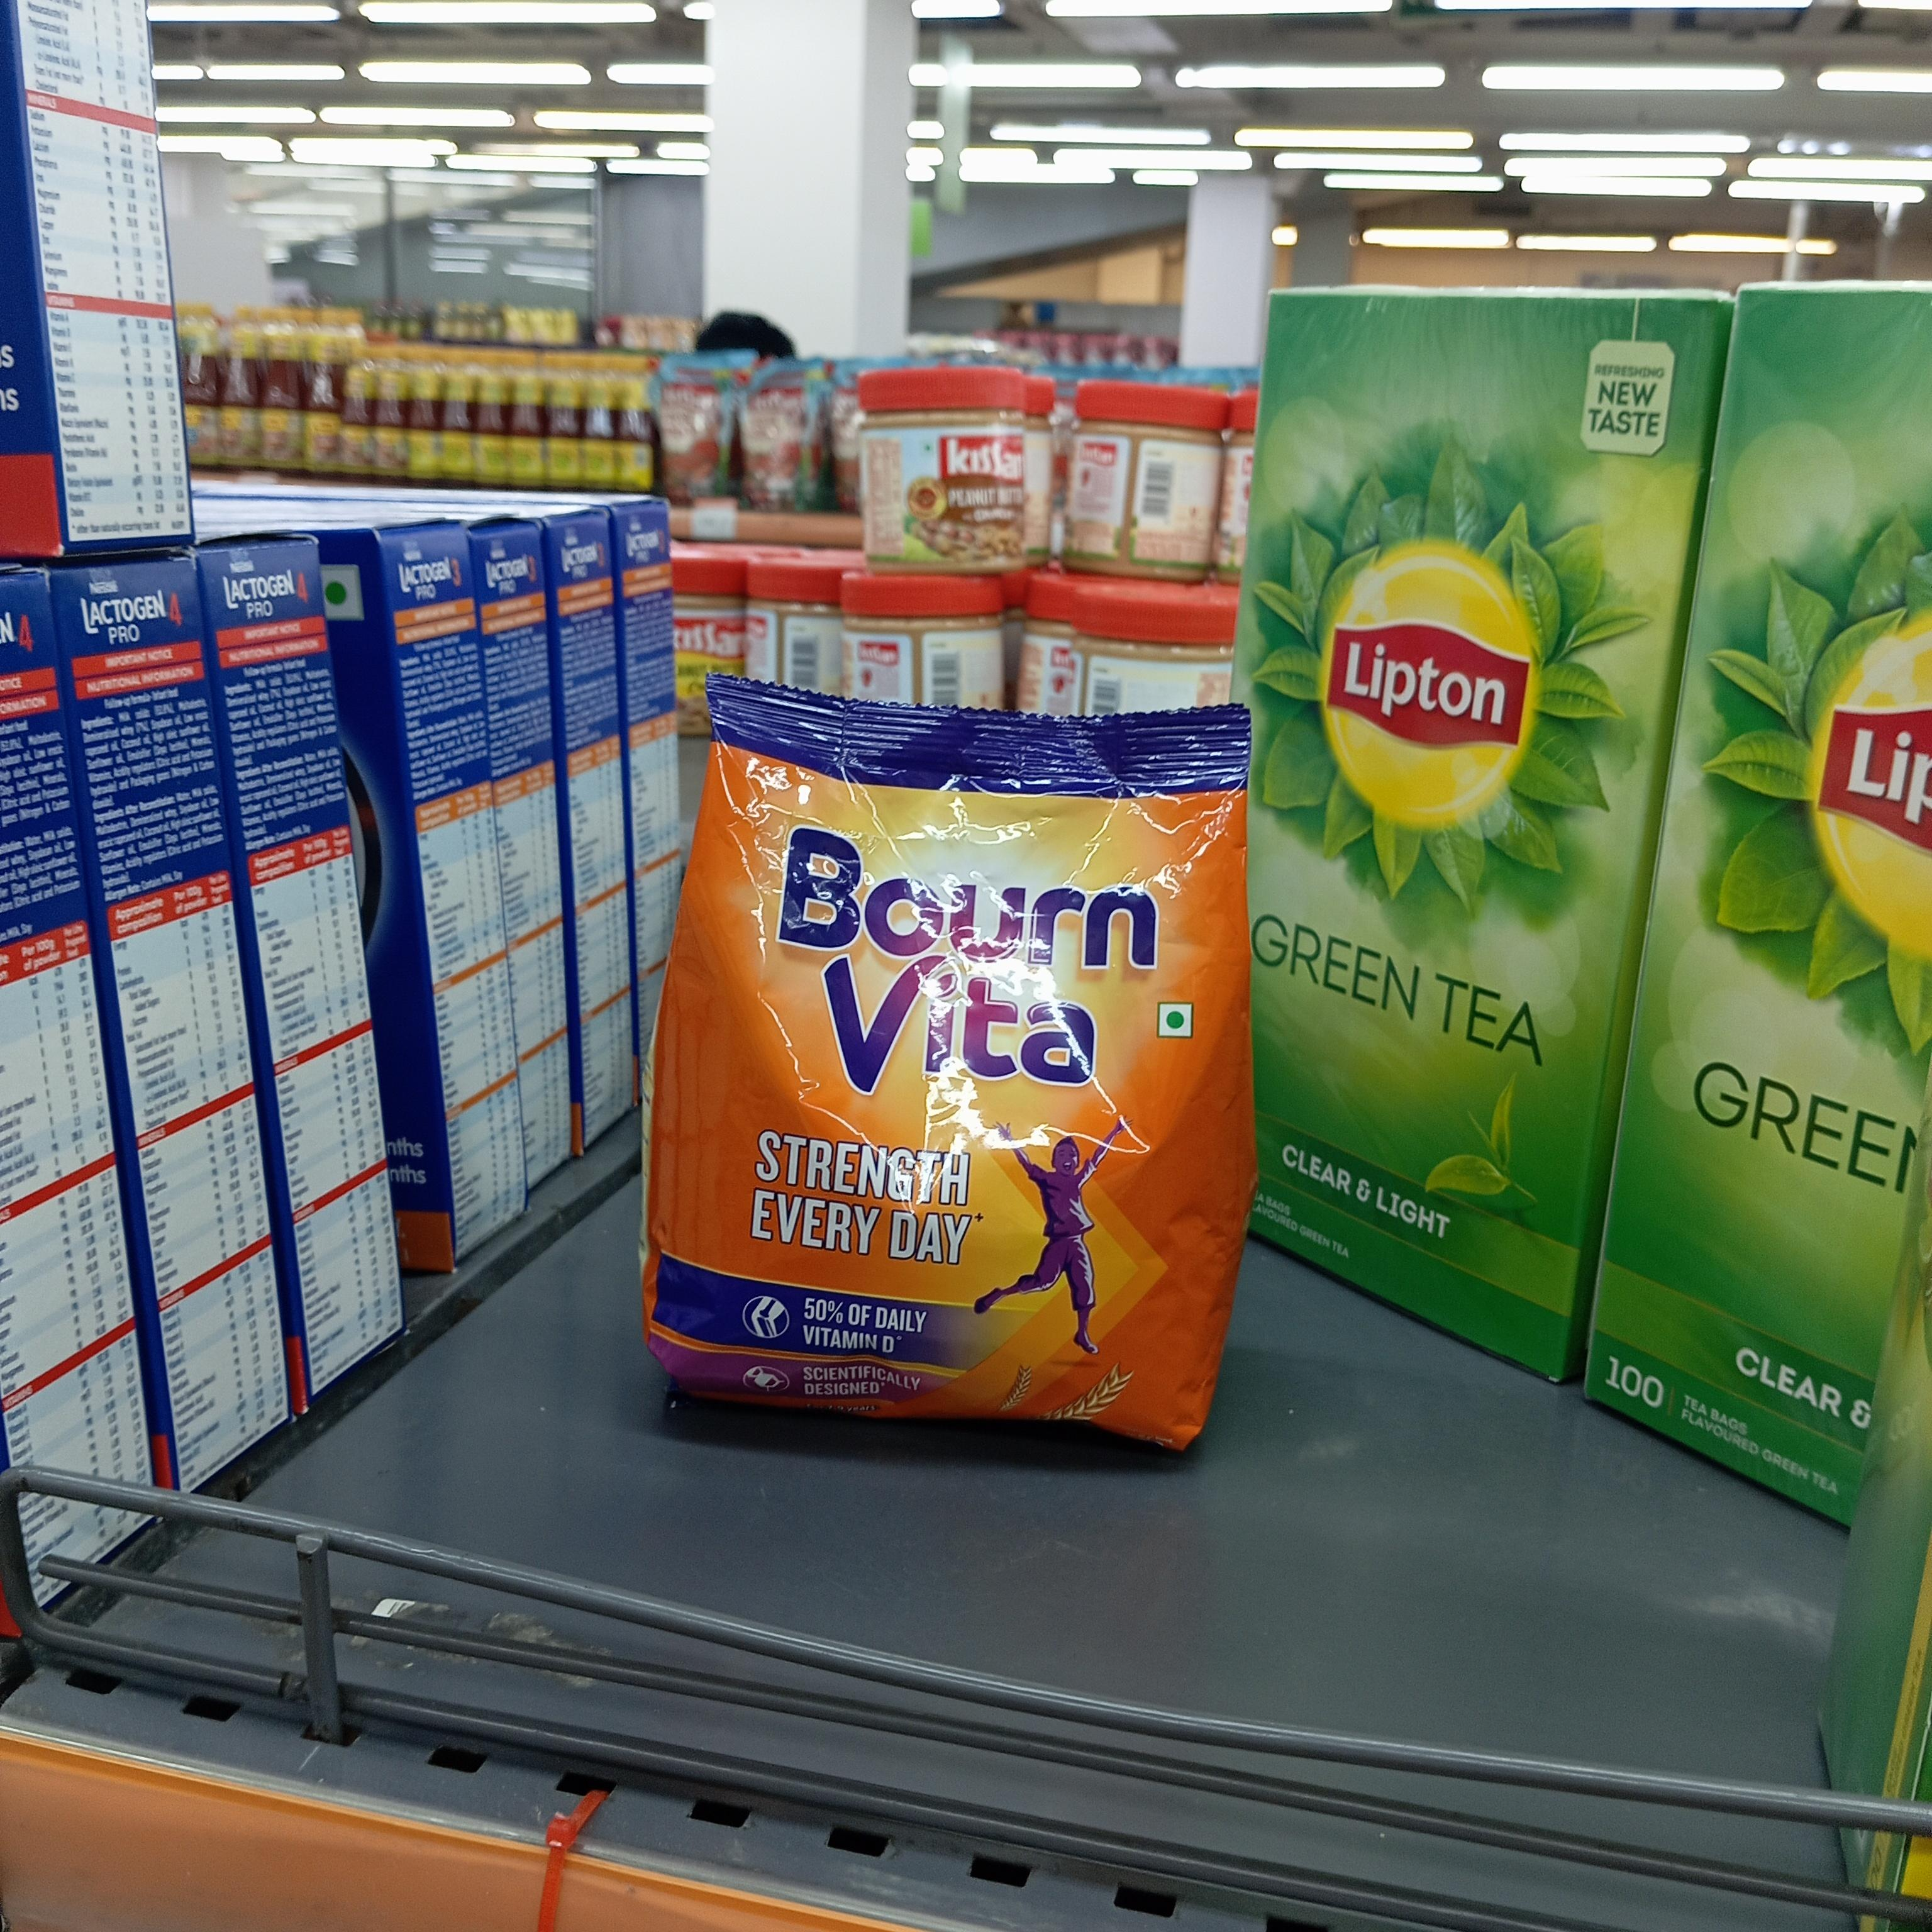BOURN_VITA_500_G_POUCH: (692, 667, 1210, 1433)
